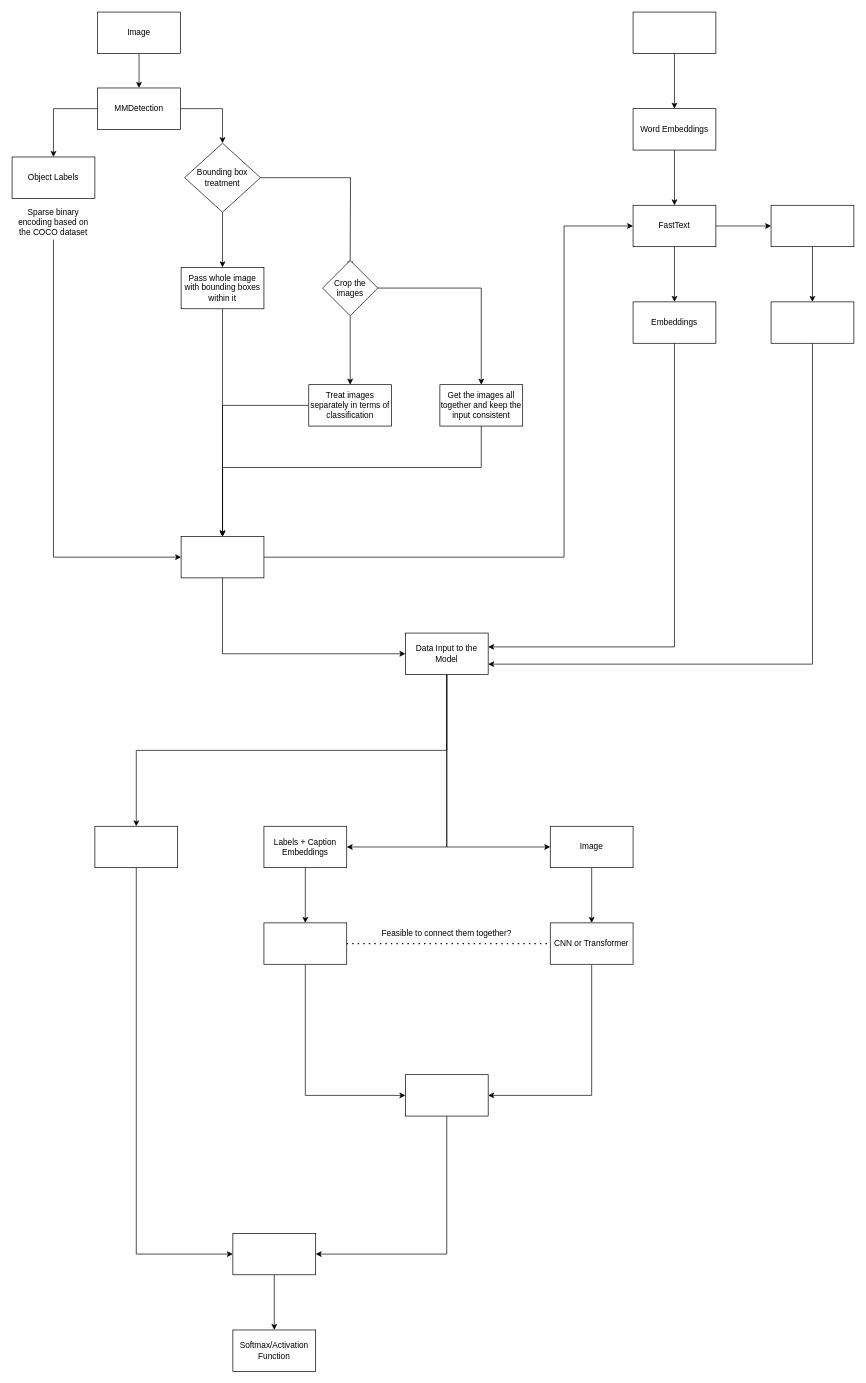
Some shapes in this 866 by 1383 pixel diagram are drawn without their labels. The shapes that lost their labels are listed below. From the top down, each one's box as (x1, y1, x2, y2) in pixels, then its label:
(632, 11, 716, 53): Caption
(770, 205, 854, 247): Sentiment Classification
(770, 301, 854, 343): Sentiment
(180, 536, 264, 578): Labels and image
(94, 826, 178, 868): Pure Labels and Sentiment
(263, 922, 347, 964): CNN or BiLSTM or Transformer
(405, 1074, 488, 1116): Concatenated Results
(232, 1233, 316, 1275): Fully-connected Layers
